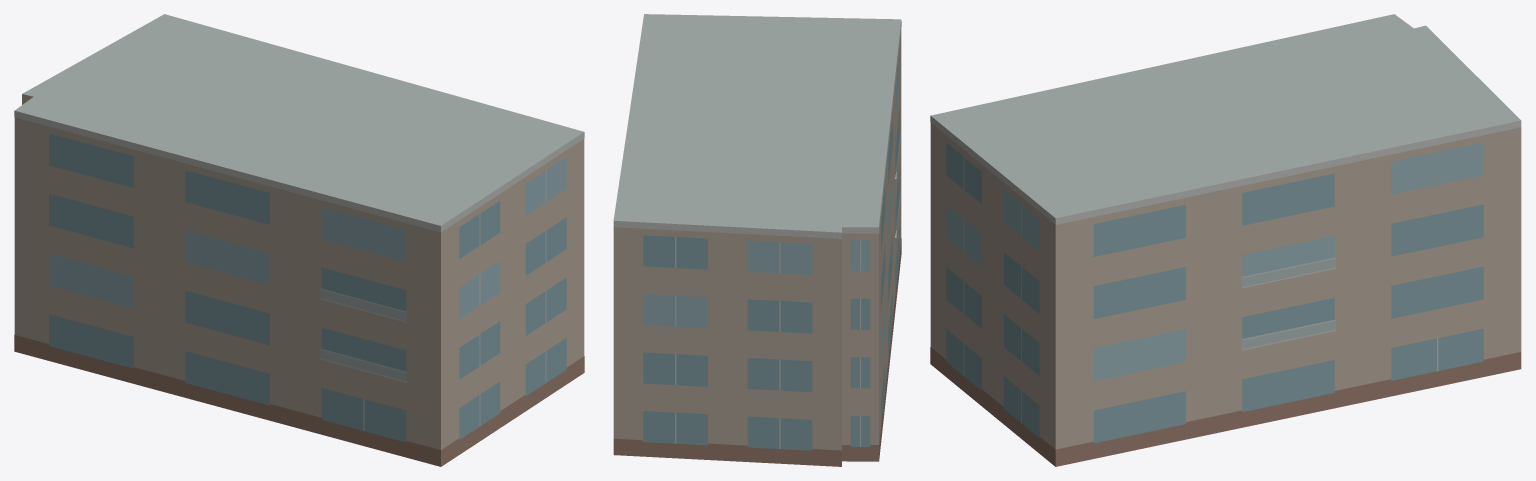
File: survey-upis-32910005.glb
3 renders of one model, left to right at view 1: azimuth 30°, elevation 25°; view 2: azimuth 150°, elevation 25°; view 3: azimuth 270°, elevation 25°, orthographic. The views are drawn at different scales.
Visible parts, largest first — view 1: survey-upis-32910005.tmp; view 2: survey-upis-32910005.tmp; view 3: survey-upis-32910005.tmp.
Part boxes in pixels (<box>): survey-upis-32910005.tmp: <box>14,14,584,466</box>; survey-upis-32910005.tmp: <box>613,14,901,466</box>; survey-upis-32910005.tmp: <box>930,14,1521,466</box>.
Size of the model in its own units: 15.87 by 9 by 19.4.
